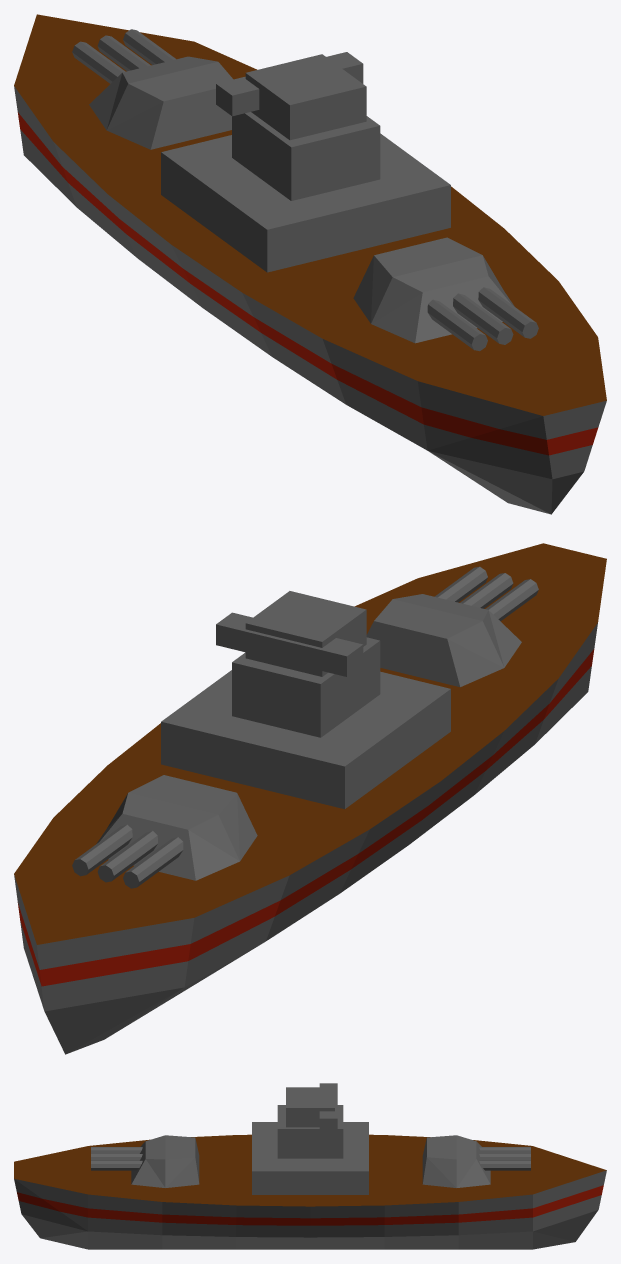
Rendered from battle_ship.glb.
3 views of the same model, one above another, from view 1: azimuth 30°, elevation 25°; view 2: azimuth 150°, elevation 25°; view 3: azimuth 270°, elevation 25° (orthographic). The views are drawn at different scales.
Parts seen in each view (by area): view 1: Cube, Cube.006, Cube.005; view 2: Cube, Cube.005, Cube.006; view 3: Cube, Cube.006, Cube.005.
Part boxes in pixels (left/top/right/bottom): Cube: left=14, top=14, right=606, bottom=514; Cube.006: left=353, top=237, right=538, bottom=351; Cube.005: left=72, top=29, right=233, bottom=149; Cube: left=14, top=543, right=606, bottom=1054; Cube.005: left=72, top=775, right=257, bottom=888; Cube.006: left=366, top=566, right=538, bottom=687; Cube: left=14, top=1083, right=606, bottom=1249; Cube.006: left=91, top=1135, right=199, bottom=1187; Cube.005: left=422, top=1135, right=530, bottom=1187.
Bounding box in the file's own units: 0.0232 × 0.0226 × 0.08.
